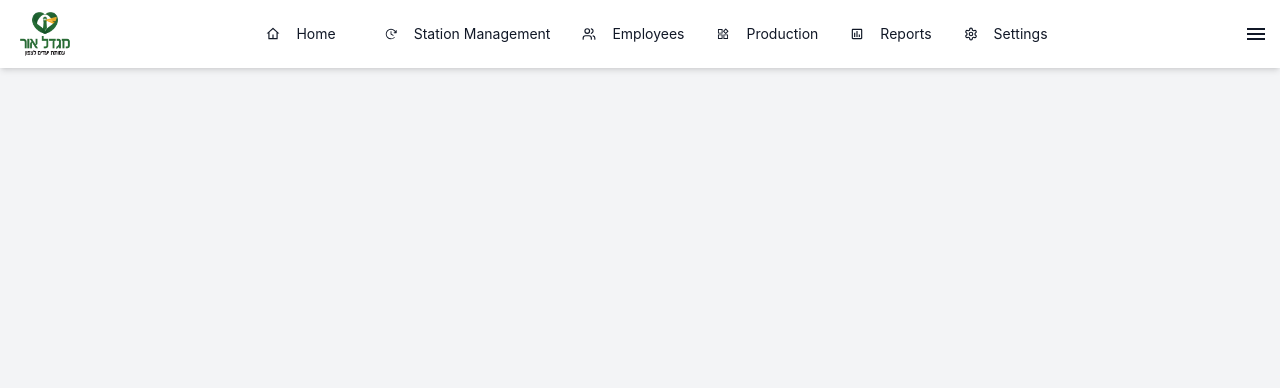
Test: Navbar › toggles menu on button click
This screenshot has width=1280, height=388.
Click the button named "Toggle menu". click: coordinates (1256, 34)
box: [1244, 22, 1268, 46]
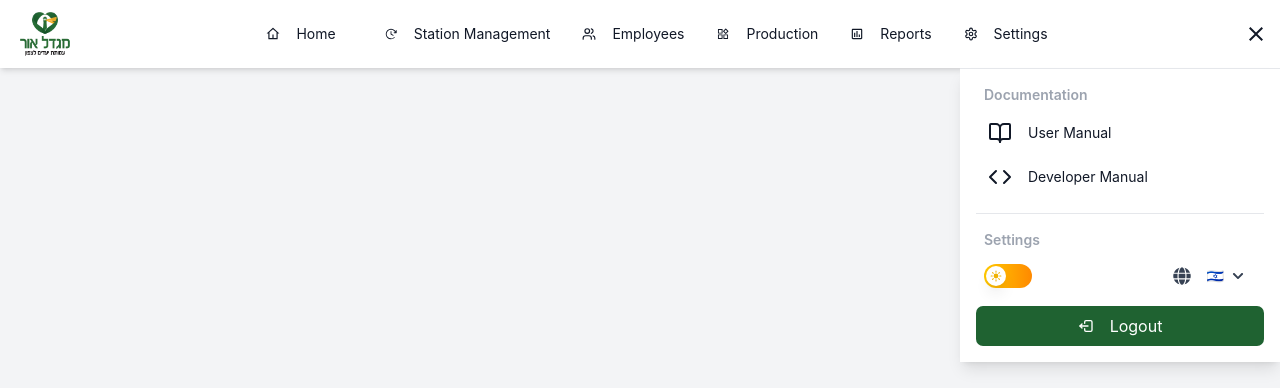
Expected: the heading "Documentation" is shown, [984, 86, 1088, 103]
Click the button named "Toggle menu". click: coordinates (1256, 34)
box: [1244, 22, 1268, 46]
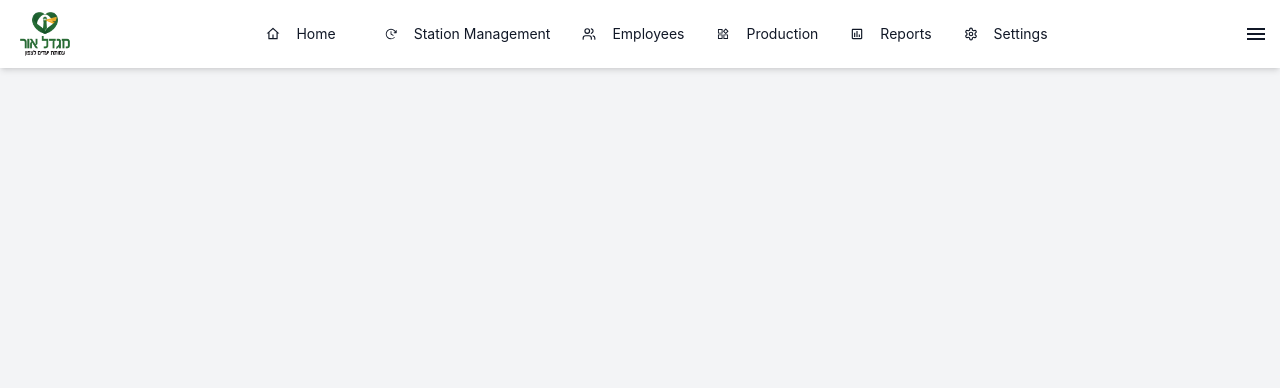
Expected: the heading "Documentation" is gone
